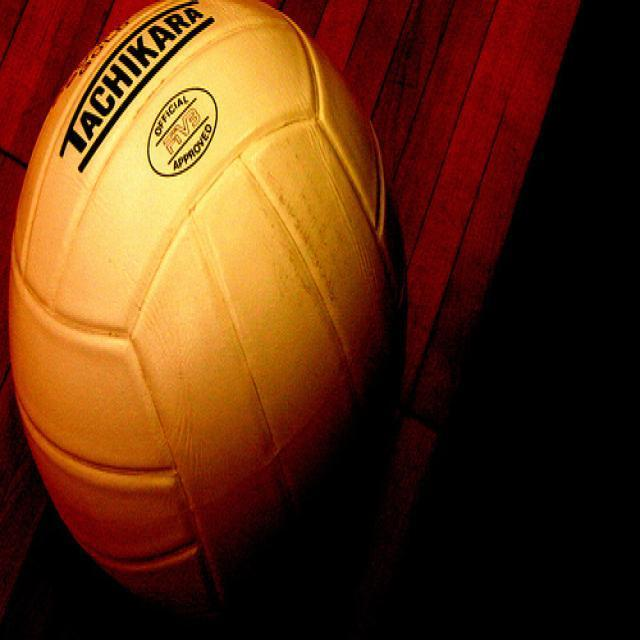volleyball: (1, 1, 410, 622)
